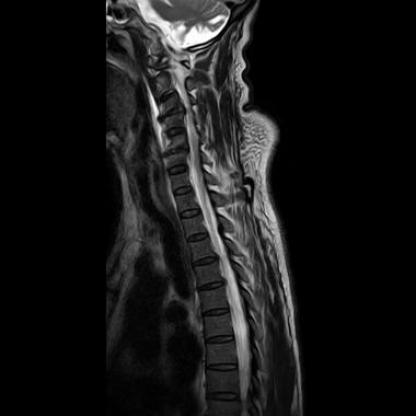Disc Protrusionrotation: (159, 106, 189, 124)
